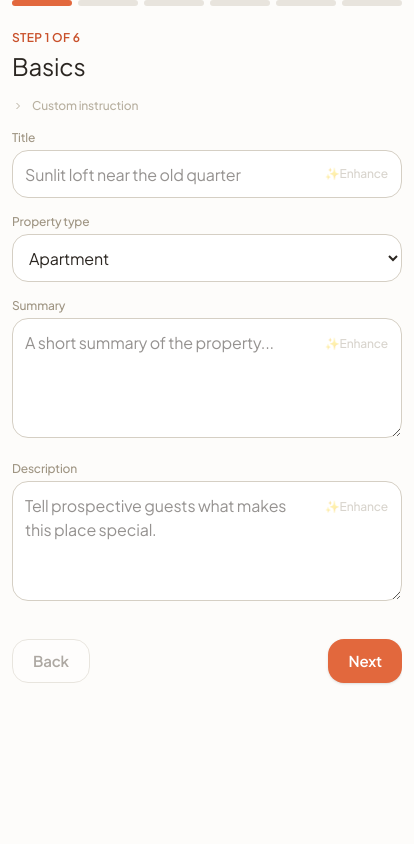
Test case: PropertyForm › blocks advancing from step 2 when price is missing
The image size is (414, 844).
Type "Villa" into the field labelled "Title" at (207, 174), box [12,150,402,198]
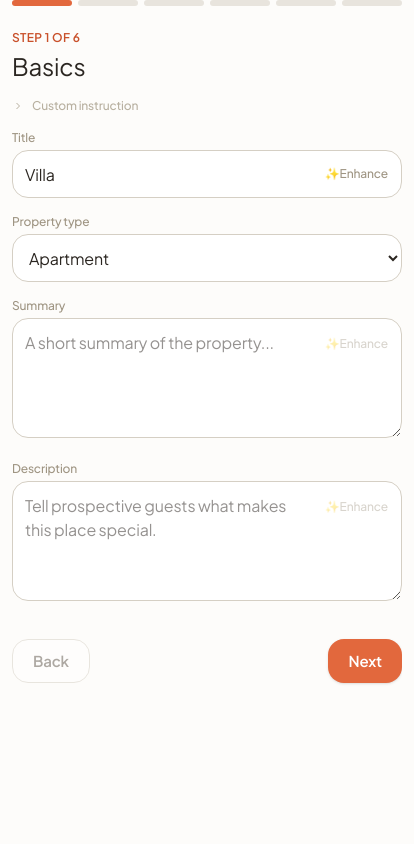
Click the button "Next" at (365, 661), box [328,639,402,683]
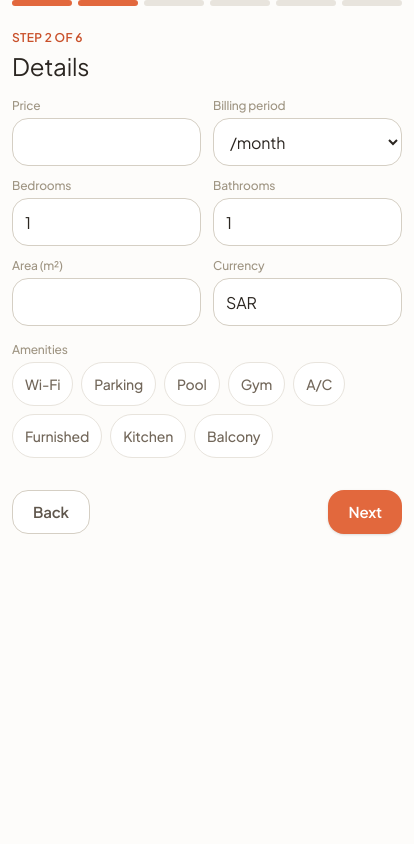
Click the button "Next" at (365, 512), box [328,490,402,534]
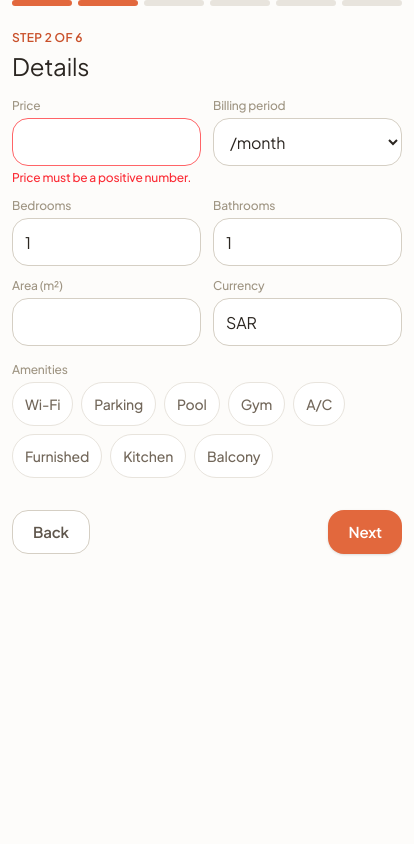
Expected: the heading "Details" is shown, [12,51,89,81]
Expected: the message shows "Price", [12,170,191,185]
